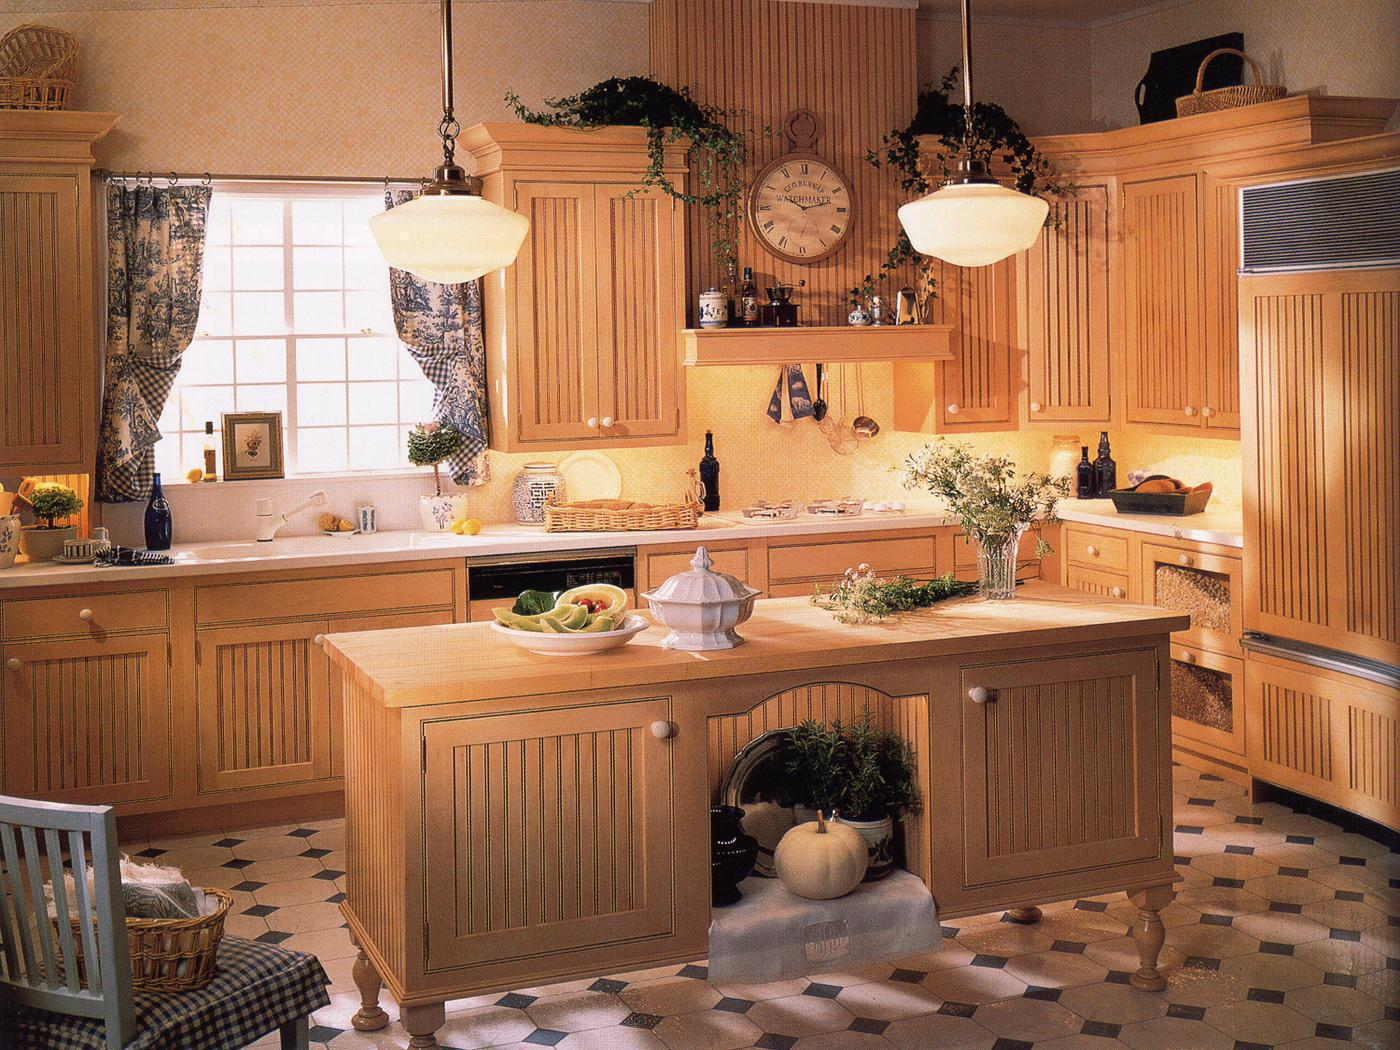Armario: (1234, 176, 1383, 829)
Lavaplatos: (168, 481, 481, 574)
